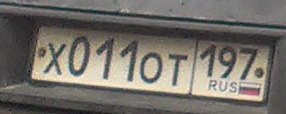character: (119, 36, 141, 86), (68, 36, 92, 80), (96, 35, 116, 84), (44, 42, 67, 79), (140, 51, 164, 85), (166, 52, 190, 86), (217, 42, 238, 79), (239, 42, 257, 81), (199, 41, 216, 77)
